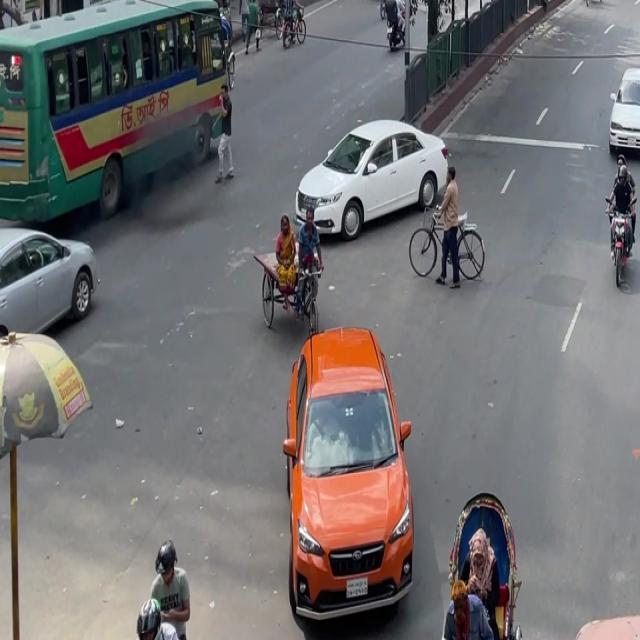bicycle: (404, 154, 488, 305)
bus: (0, 0, 243, 234)
car: (270, 305, 430, 619), (291, 98, 448, 252), (0, 209, 103, 383), (605, 53, 640, 165)
motorbike: (599, 153, 640, 292)
